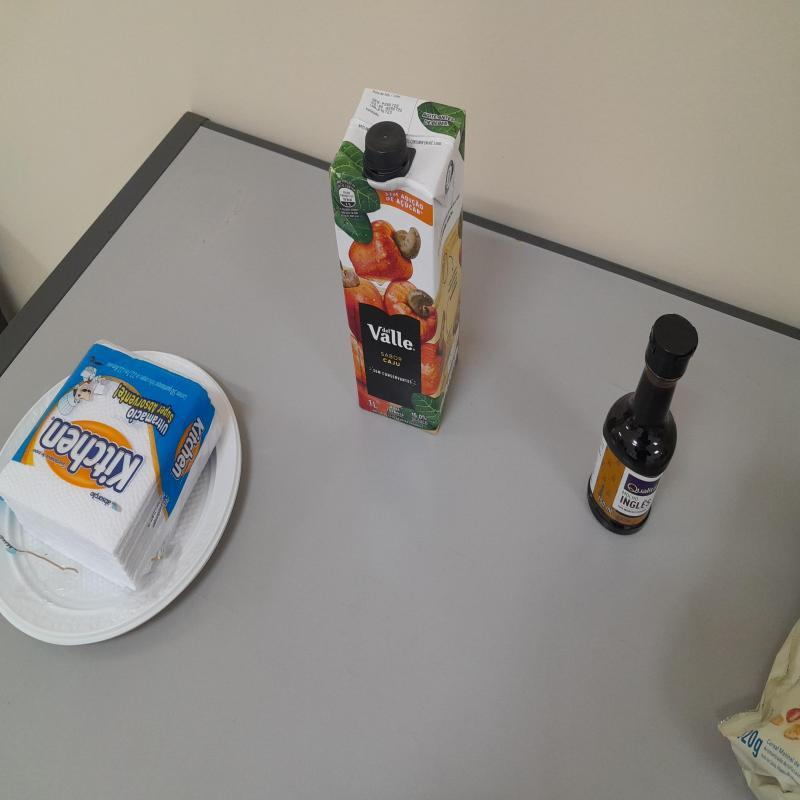CornFlakes: (719, 618, 800, 800)
EnglishSauce: (589, 317, 698, 538)
